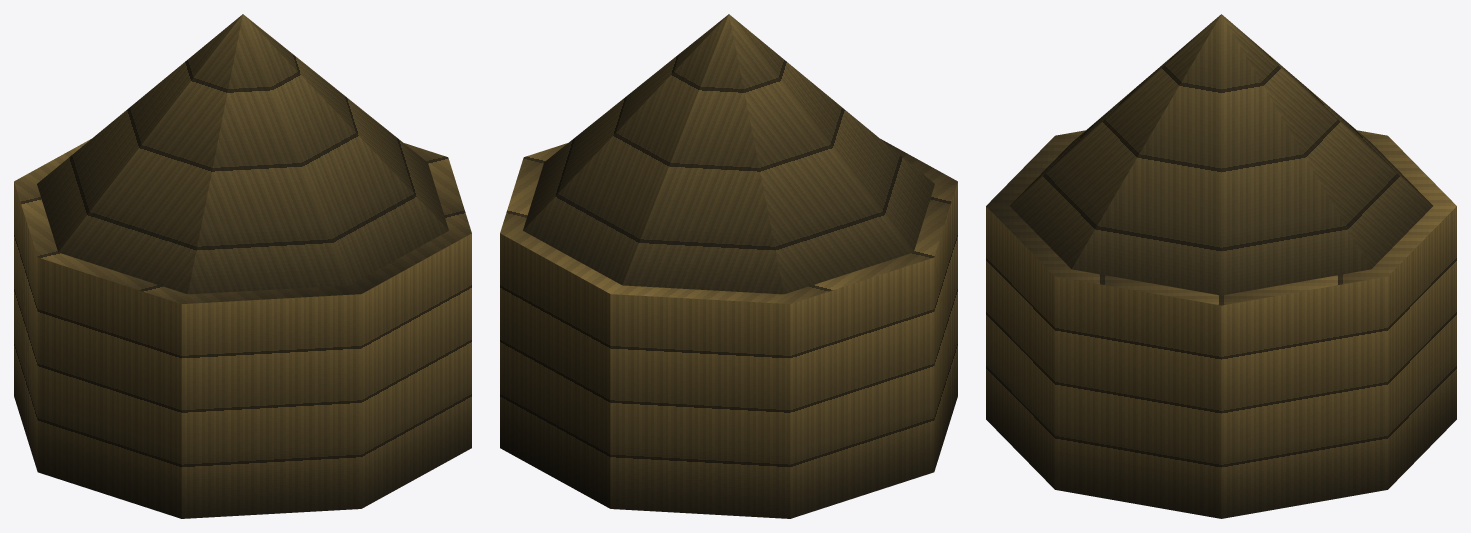
File: haystack.glb
The picture shows the model from 3 angles, left to right: view 1: azimuth 30°, elevation 25°; view 2: azimuth 150°, elevation 25°; view 3: azimuth 270°, elevation 25°; orthographic projection.
Parts seen in each view (by area): view 1: haystack; view 2: haystack; view 3: haystack.
Boxes of the visible parts, bbox=[...] form: haystack: bbox=[14, 14, 471, 518]; haystack: bbox=[500, 14, 957, 518]; haystack: bbox=[986, 14, 1456, 518].
Bounding box in the file's own units: 1 × 0.95 × 1.
Materials: 1 (1 with a texture image).
